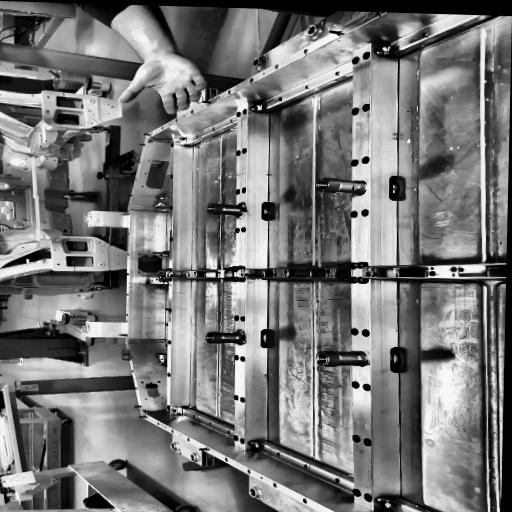b_casing: (125, 10, 512, 512)
